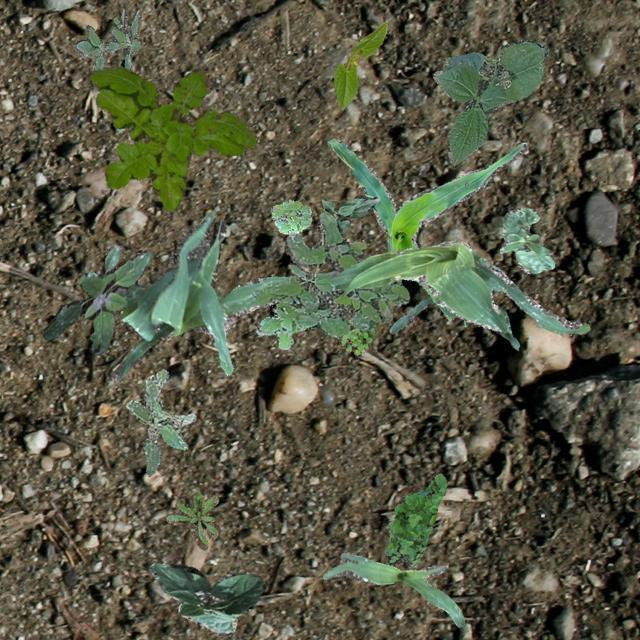crop: (327, 138, 526, 320), (110, 210, 290, 382), (328, 238, 592, 334), (432, 39, 548, 164), (322, 552, 464, 626), (148, 562, 264, 636), (388, 294, 518, 348), (332, 22, 387, 108), (498, 206, 554, 272), (316, 193, 378, 236)
weed: (90, 65, 256, 208), (256, 206, 408, 348), (41, 243, 150, 354), (126, 368, 194, 476), (384, 472, 446, 566), (72, 8, 142, 72), (165, 489, 218, 548), (270, 198, 312, 234), (338, 324, 374, 354)
